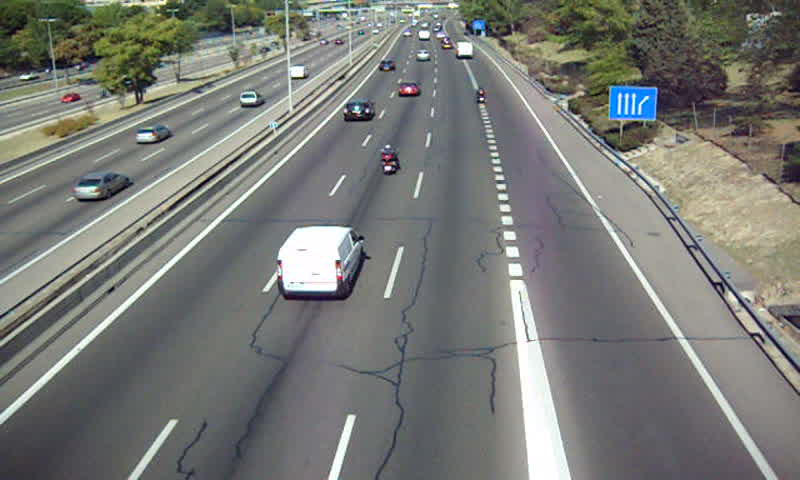car: (341, 99, 376, 123), (396, 82, 419, 97), (377, 59, 395, 72), (414, 48, 430, 62)
motorcycle: (380, 142, 397, 178), (476, 86, 486, 106)
van: (277, 226, 363, 300), (456, 41, 474, 59)
